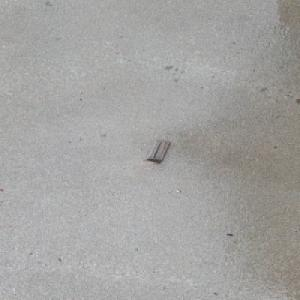MetalPart: (142, 140, 171, 164)
